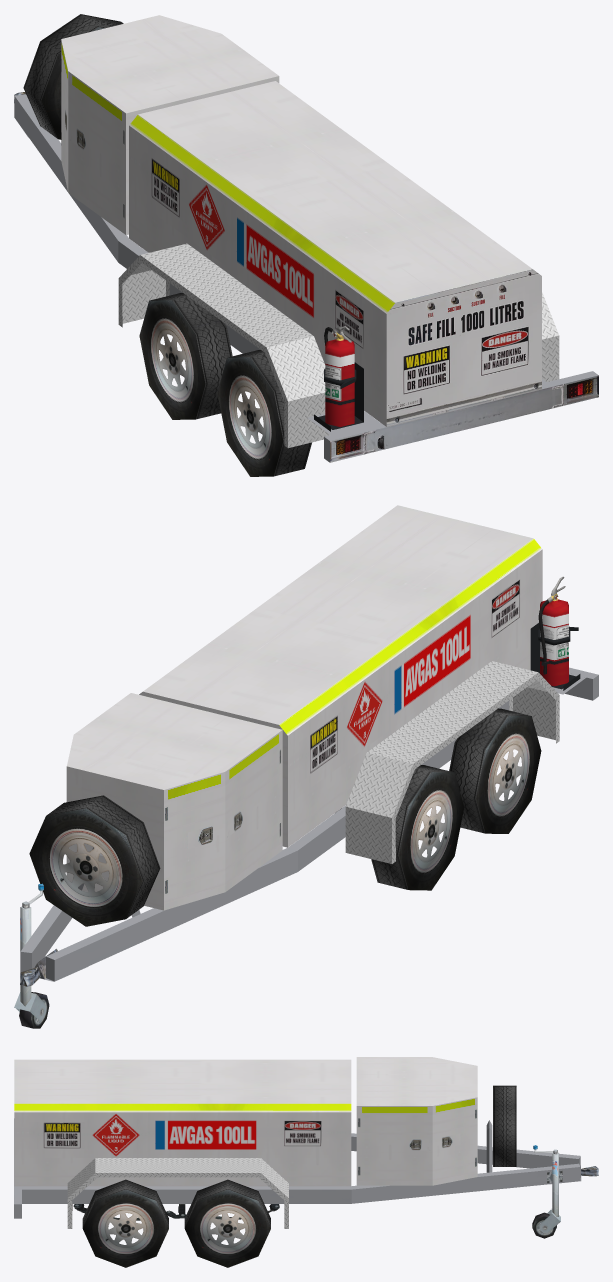
File: fuel-trailer-5m-cbj_LOD03.gltf
3 renders of one model, top to bottom at view 1: azimuth 30°, elevation 25°; view 2: azimuth 150°, elevation 25°; view 3: azimuth 270°, elevation 25°, orthographic. The views are drawn at different scales.
Parts seen in each view (by area): view 1: fuel-trailer1-03; view 2: fuel-trailer1-03; view 3: fuel-trailer1-03.
Part boxes in pixels (x1,y1,x2,y2): fuel-trailer1-03: (14,14,598,476); fuel-trailer1-03: (14,505,598,1028); fuel-trailer1-03: (14,1057,598,1267).
Size of the model in its own units: 1.82 by 1.43 by 5.21.
